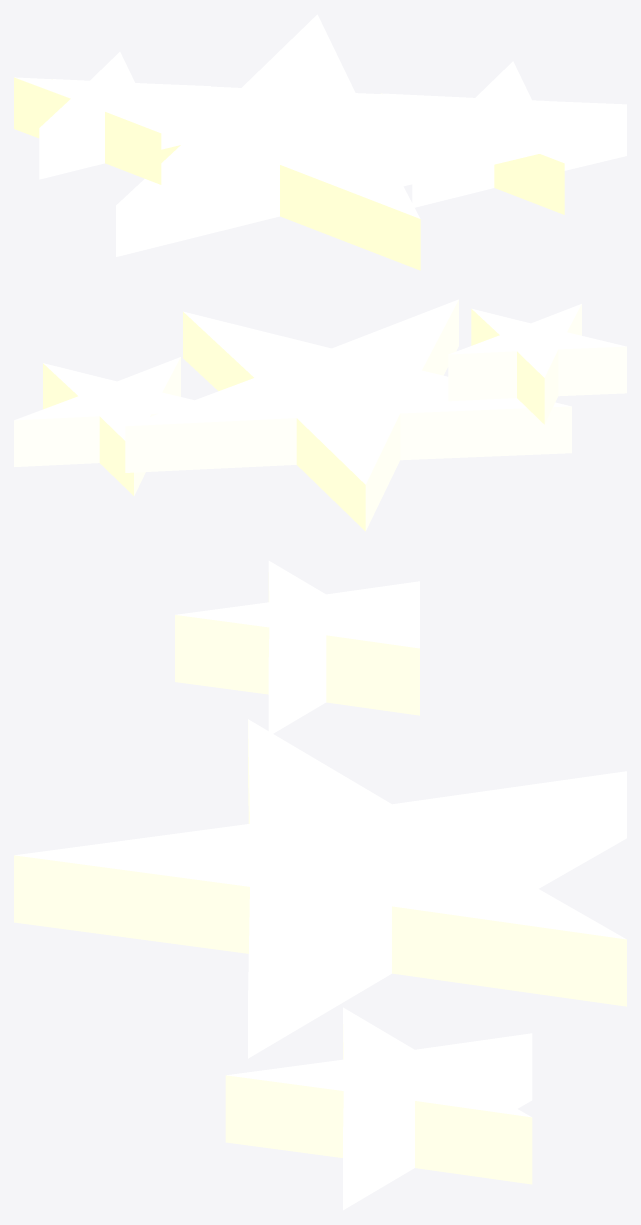
Rendered from Deco_SparkleStar.fbx.
3 views of the same model, one above another, from view 1: azimuth 30°, elevation 25°; view 2: azimuth 150°, elevation 25°; view 3: azimuth 270°, elevation 25° (orthographic). The views are drawn at different scales.
Parts seen in each view (by area): view 1: Deco_SparkleStar_Big, Deco_SparkleStar; view 2: Deco_SparkleStar_Big, Deco_SparkleStar; view 3: Deco_SparkleStar_Big, Deco_SparkleStar.
Boxes of the visible parts, bbox=[...] form: Deco_SparkleStar_Big: bbox=[52, 14, 544, 270]; Deco_SparkleStar: bbox=[14, 52, 626, 214]; Deco_SparkleStar_Big: bbox=[125, 299, 571, 531]; Deco_SparkleStar: bbox=[14, 304, 626, 495]; Deco_SparkleStar_Big: bbox=[14, 719, 626, 1058]; Deco_SparkleStar: bbox=[175, 561, 532, 1210].
Size of the model in its own units: 0.437 by 0.135 by 0.2894.
